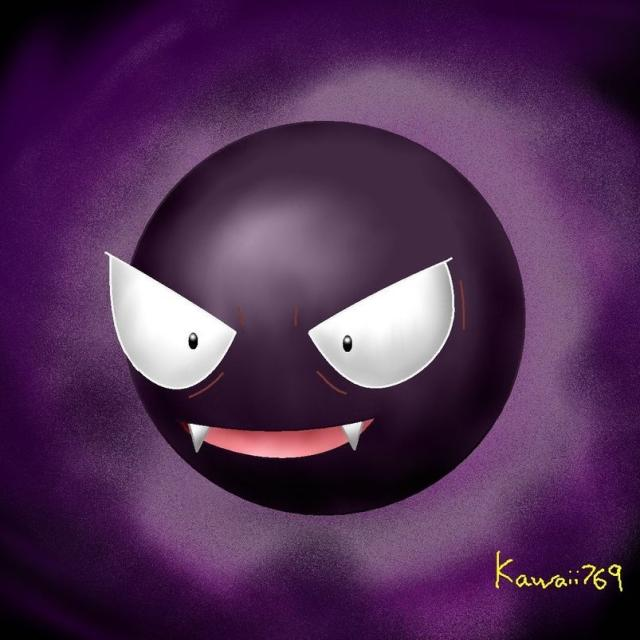Gastly: (93, 118, 548, 530)
